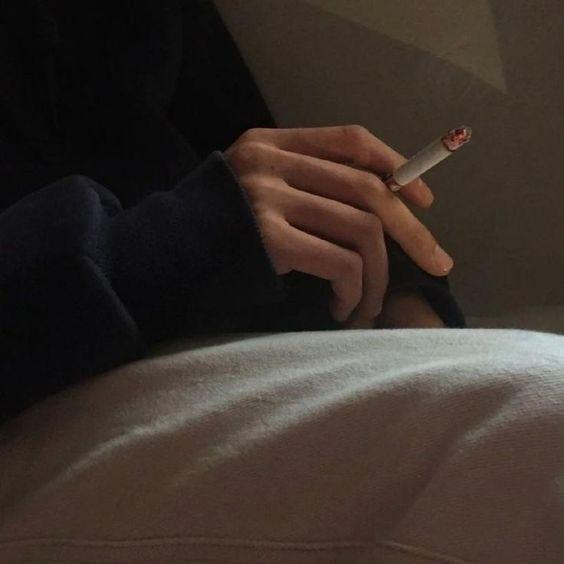cigarette: (381, 125, 472, 193)
